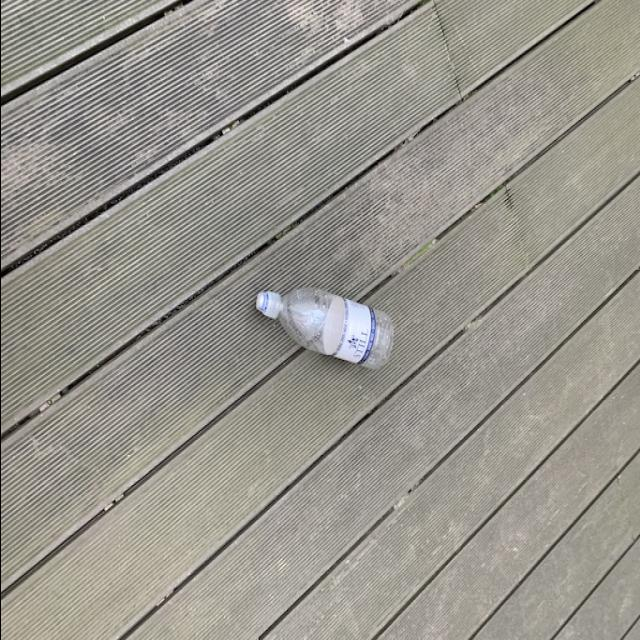PET: (251, 282, 397, 378)
